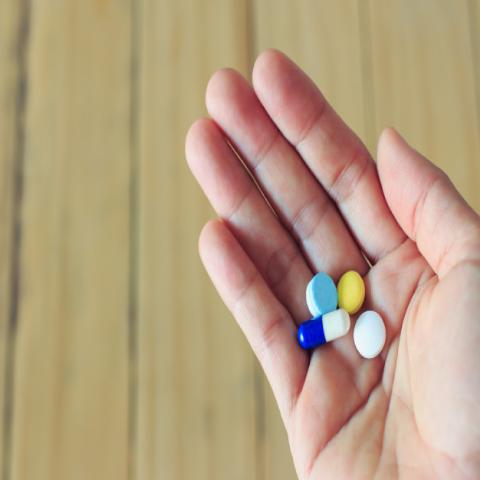Pill: (352, 311, 394, 362)
